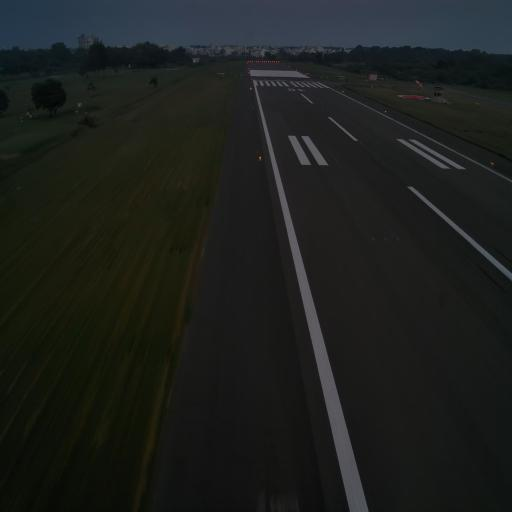off: (383, 234, 389, 245), (395, 232, 400, 243), (372, 233, 376, 244)
on: (490, 158, 495, 168), (257, 155, 262, 163)
